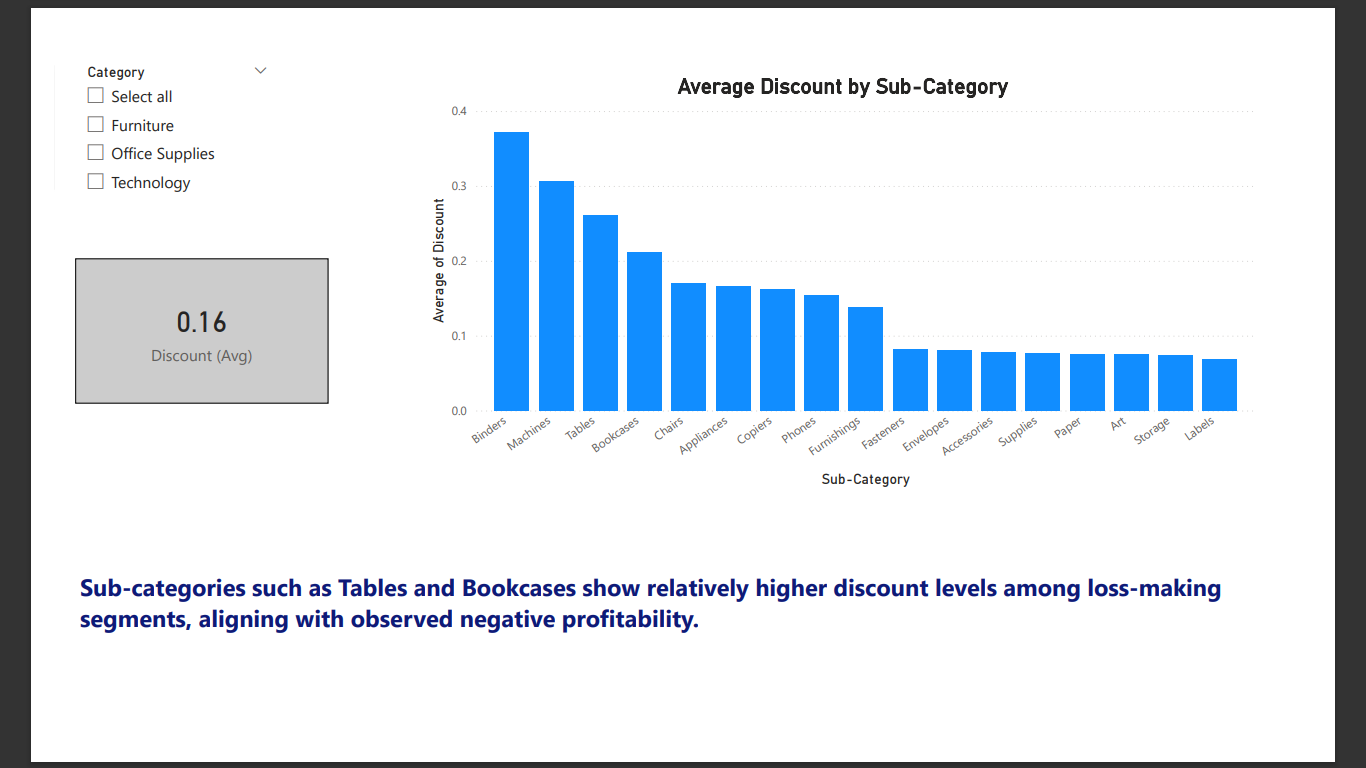

The page's visual inventory and layout, read from the dashboard file:
{"tool":"powerbi","page":{"name":"Discount Analysis","canvas":[1280,720],"ordinal":2},"visuals":[{"type":"clusteredColumnChart","title":"Average Discount by Sub-Category","fields":{"Category":["superstore.Sub-Category"],"Y":["Avg(superstore.Discount)"]},"box":[377.6,42.6,850.8,426.1],"z":0},{"type":"slicer","fields":{"Values":["superstore.Category"]},"box":[21.1,28.2,207.8,158.5],"z":1000},{"type":"card","fields":{"Values":["Avg(superstore.Discount)"]},"box":[20.6,230.7,258.6,148.4],"z":2000},{"type":"textbox","box":[20.6,543.7,1259.3,116.1],"z":3000}]}

Visuals, with their boxes in screenshot pixels (x1, y1, x2, y2), scaled from the page's 1280x720 canvas onto the 1366x768 screenshot:
"Average Discount by Sub-Category" clusteredColumnChart: 403:45:1311:500
slicer - superstore.Category: 23:30:244:199
card - Avg(superstore.Discount): 22:246:298:404
textbox: 22:580:1365:704
